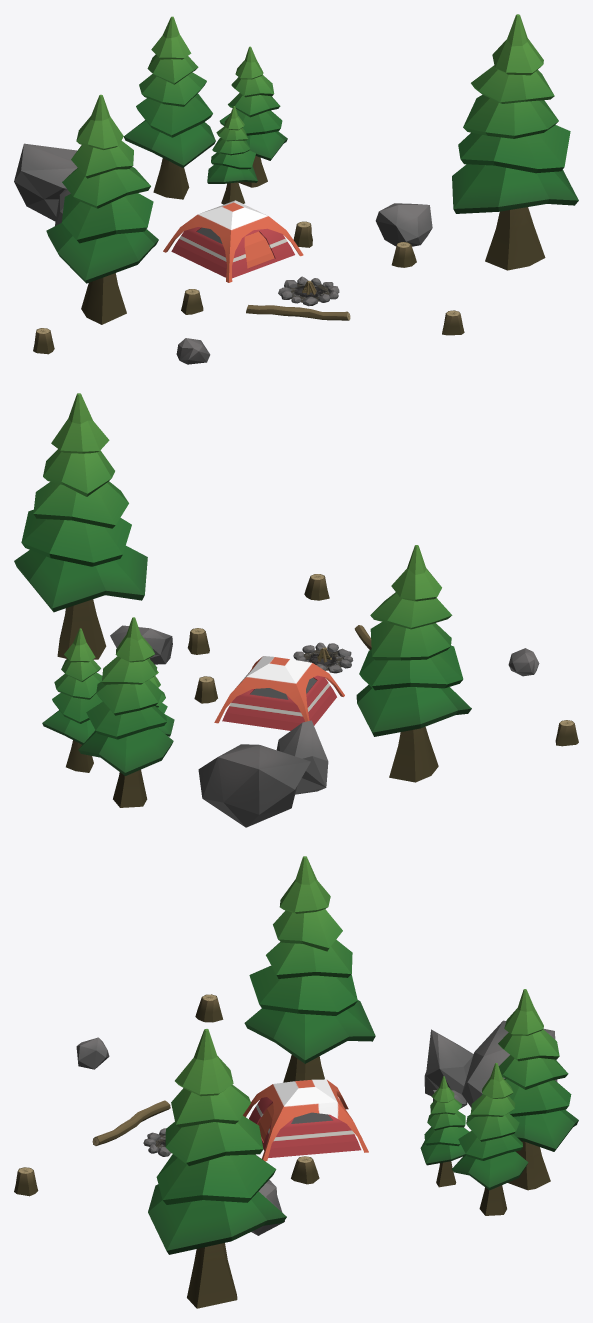
The model's file is campMesh.gltf.
3 views of the same model, one above another, from view 1: azimuth 30°, elevation 25°; view 2: azimuth 150°, elevation 25°; view 3: azimuth 270°, elevation 25° (orthographic). The views are drawn at different scales.
Parts seen in each view (by area): view 1: evergreen2_low4, evergreen2_low, evergreen2_low2, evergreen2_low1, tent, Rock3_low, tentCover, evergreen2_low3, Rock4_low, logSeat, firepitStones, Rock2_low (+4 smaller); view 2: evergreen2_low4, evergreen2_low, evergreen2_low2, Rock3_low, evergreen2_low1, tent, tentCover, Rock1_low, Rock4_low, firepitStones, Rock2_low; view 3: evergreen2_low4, evergreen2_low, evergreen2_low2, evergreen2_low1, tent, tentCover, evergreen2_low3, Rock1_low, Rock3_low, logSeat, Rock2_low, stump (+1 smaller).
Boxes of the visible parts, box(x1,y1,x2,y2) form: evergreen2_low4: box(452, 14, 578, 270); evergreen2_low: box(46, 94, 158, 324); evergreen2_low2: box(123, 16, 215, 199); evergreen2_low1: box(219, 46, 287, 187); tent: box(171, 227, 294, 278); Rock3_low: box(14, 143, 77, 221); tentCover: box(163, 200, 303, 282); evergreen2_low3: box(207, 106, 257, 204); Rock4_low: box(375, 203, 432, 246); logSeat: box(246, 305, 350, 320); firepitStones: box(278, 276, 339, 306); Rock2_low: box(176, 338, 210, 364); evergreen2_low4: box(14, 393, 147, 659); evergreen2_low: box(356, 545, 471, 782); evergreen2_low2: box(78, 617, 173, 807); Rock3_low: box(198, 744, 310, 827); evergreen2_low1: box(42, 628, 102, 772); tent: box(222, 675, 336, 730); tentCover: box(214, 656, 344, 723); Rock1_low: box(276, 720, 328, 794); Rock4_low: box(110, 625, 172, 664); firepitStones: box(293, 642, 353, 673); Rock2_low: box(508, 648, 539, 676); evergreen2_low4: box(148, 1029, 286, 1308); evergreen2_low: box(244, 856, 375, 1082); evergreen2_low2: box(482, 989, 578, 1190); evergreen2_low1: box(451, 1063, 528, 1215); tent: box(249, 1097, 361, 1157); tentCover: box(243, 1079, 368, 1161); evergreen2_low3: box(420, 1076, 469, 1187); Rock1_low: box(424, 1029, 473, 1096); Rock3_low: box(462, 1020, 557, 1107); logSeat: box(92, 1100, 170, 1145); Rock2_low: box(76, 1037, 109, 1069); stump: box(291, 1156, 319, 1184).
Bounding box in the file's own units: 49.15 × 21.6 × 41.36.
